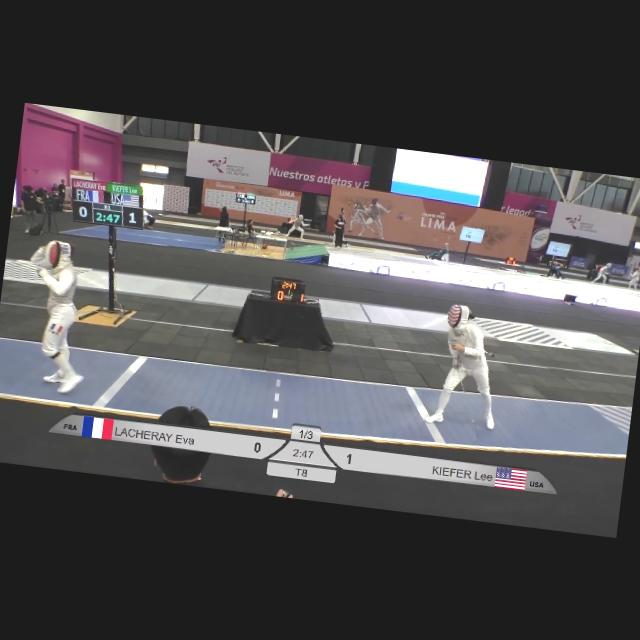blade: (442, 358, 491, 443), (4, 252, 47, 280)
